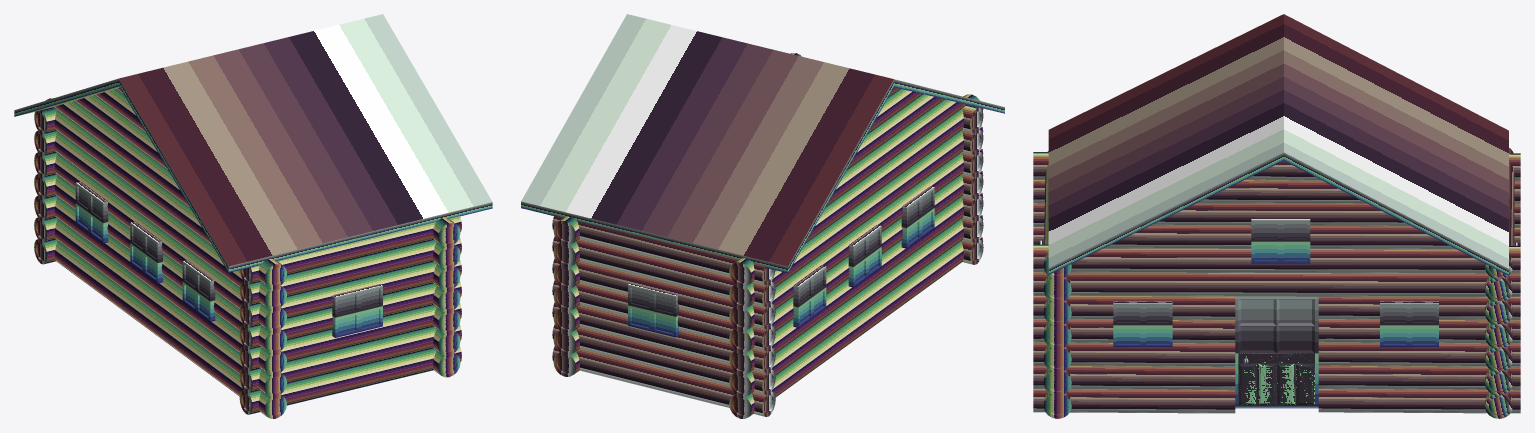
File: chaletf.fbx
3 renders of one model, left to right at view 1: azimuth 30°, elevation 25°; view 2: azimuth 150°, elevation 25°; view 3: azimuth 270°, elevation 25°, orthographic. The views are drawn at different scales.
Visible parts, largest first — view 1: Cube, MurFOnd, MurG, Fenetre, MurD, Glass, CoteG, FondToit, FondToit.001, Haute, FondToit.002; view 2: Cube, MurFOnd, MurD, Fenetre, MurG, Glass, FondToit, CoteD, FondToit.001, Haute, FondToit.002; view 3: Cube, Haute, CoteG, CoteD, POrte, FondToit.010, Glass, FondToit.011, MurD, MurG, Fenetre, glassdoor (+3 smaller).
Part boxes in pixels (x1,y1,x2,y2): Cube: [14, 14, 492, 272]; MurFOnd: [46, 98, 286, 418]; MurG: [239, 216, 461, 414]; Fenetre: [75, 181, 382, 337]; MurD: [34, 107, 57, 264]; Glass: [79, 187, 379, 333]; CoteG: [433, 264, 460, 377]; FondToit: [53, 101, 190, 208]; FondToit.001: [74, 95, 168, 170]; Haute: [433, 218, 460, 268]; FondToit.002: [95, 89, 146, 133]; Cube: [521, 14, 1004, 273]; MurFOnd: [729, 94, 983, 418]; MurD: [552, 215, 775, 416]; Fenetre: [628, 186, 934, 337]; MurG: [961, 104, 983, 264]; Glass: [631, 192, 931, 333]; FondToit: [826, 99, 966, 206]; CoteD: [553, 263, 579, 376]; FondToit.001: [847, 94, 944, 169]; Haute: [553, 53, 801, 267]; FondToit.002: [867, 89, 922, 134]; Cube: [1048, 14, 1508, 275]; Haute: [1033, 244, 1520, 296]; CoteG: [1033, 296, 1235, 413]; CoteD: [1318, 296, 1520, 413]; POrte: [1235, 296, 1318, 406]; FondToit.010: [1103, 225, 1455, 249]; Glass: [1116, 222, 1435, 343]; FondToit.011: [1151, 203, 1411, 226]; MurD: [1485, 148, 1514, 418]; MurG: [1043, 151, 1071, 418]; Fenetre: [1040, 218, 1517, 346]; glassdoor: [1241, 300, 1311, 350].
Size of the model in its own units: 2336 by 2248 by 3480.
